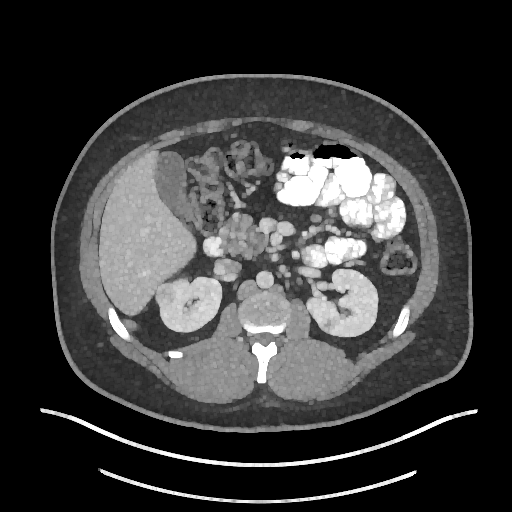Lesion: (321, 316, 342, 335)
